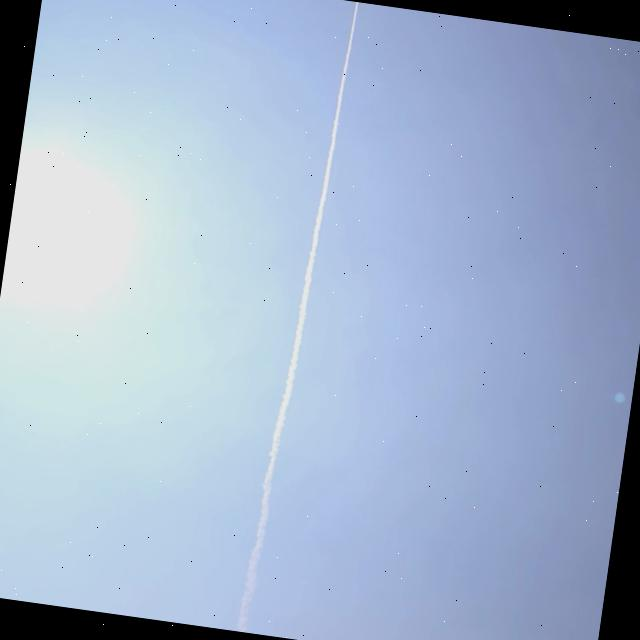smoke_trail_no_rocket: (235, 2, 357, 633)
